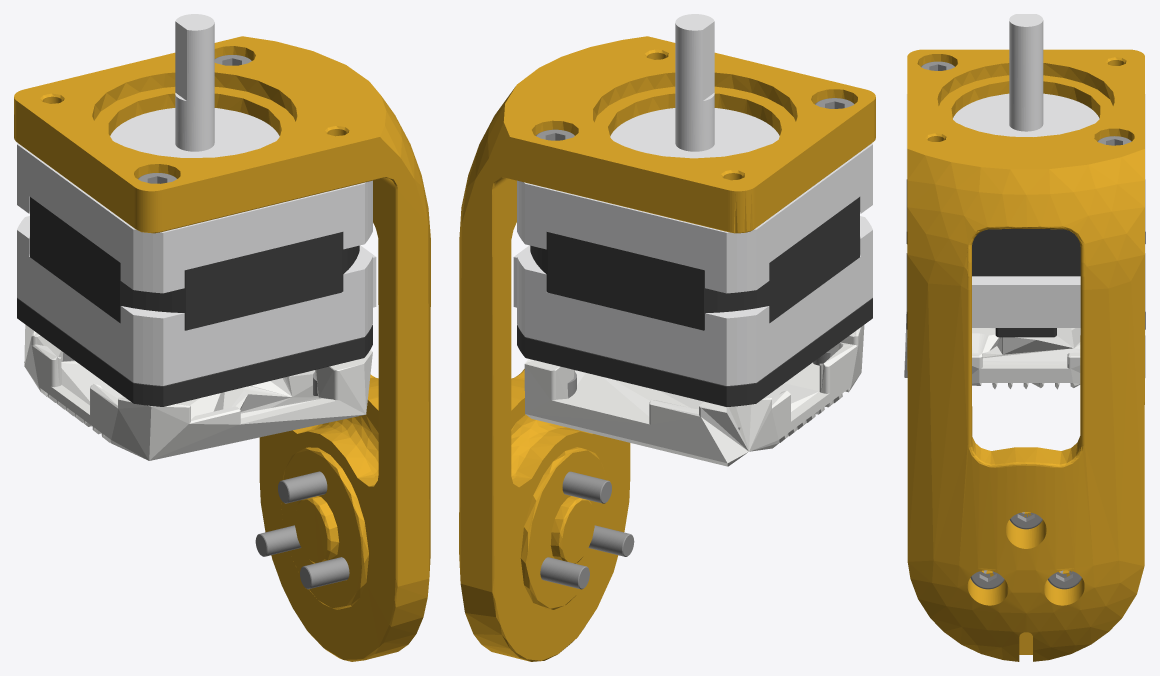
The model's file is full_step_link5-colors.obj.
3 renders of one model, left to right at view 1: azimuth 30°, elevation 25°; view 2: azimuth 150°, elevation 25°; view 3: azimuth 270°, elevation 25°, orthographic. The views are drawn at different scales.
Bounding box in the file's own units: 47.6 × 93 × 35.57.
